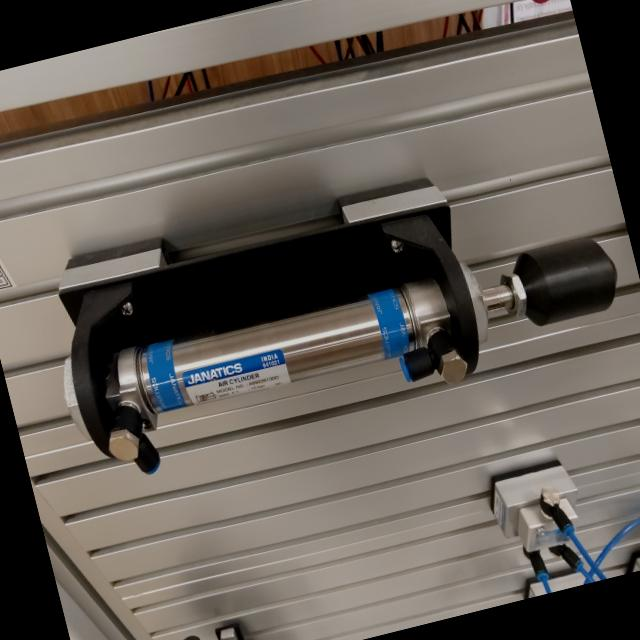double acting pneumatic cylinder: (29, 117, 640, 496)
